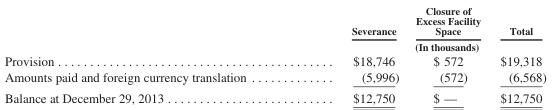table: (3, 4, 545, 104)
table column: (3, 4, 298, 104), (298, 4, 406, 104), (406, 4, 489, 104), (489, 4, 545, 104)
table column header: (3, 4, 545, 53)
table row: (3, 4, 545, 38), (3, 68, 545, 86), (3, 86, 545, 104), (3, 38, 545, 53), (3, 53, 545, 68)
table spanning cell: (298, 38, 545, 53)
